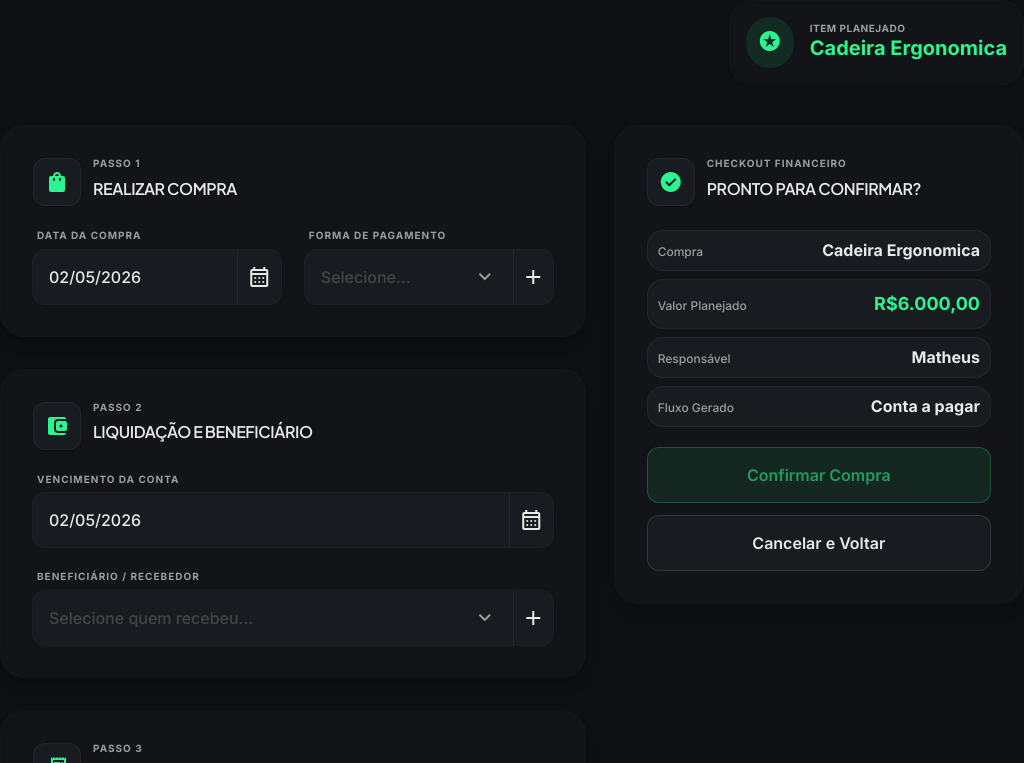
Scenario: RealizarCompraPlanejadaPage › realiza a compra com baixa automatica e gera payload de pagamento a vista
Expected: the heading "Realizar Compra" is shown, [93, 180, 237, 198]
Type "Pix" into the dropdown named "Forma de Pagamento" at point(409, 277), box [305, 250, 513, 304]
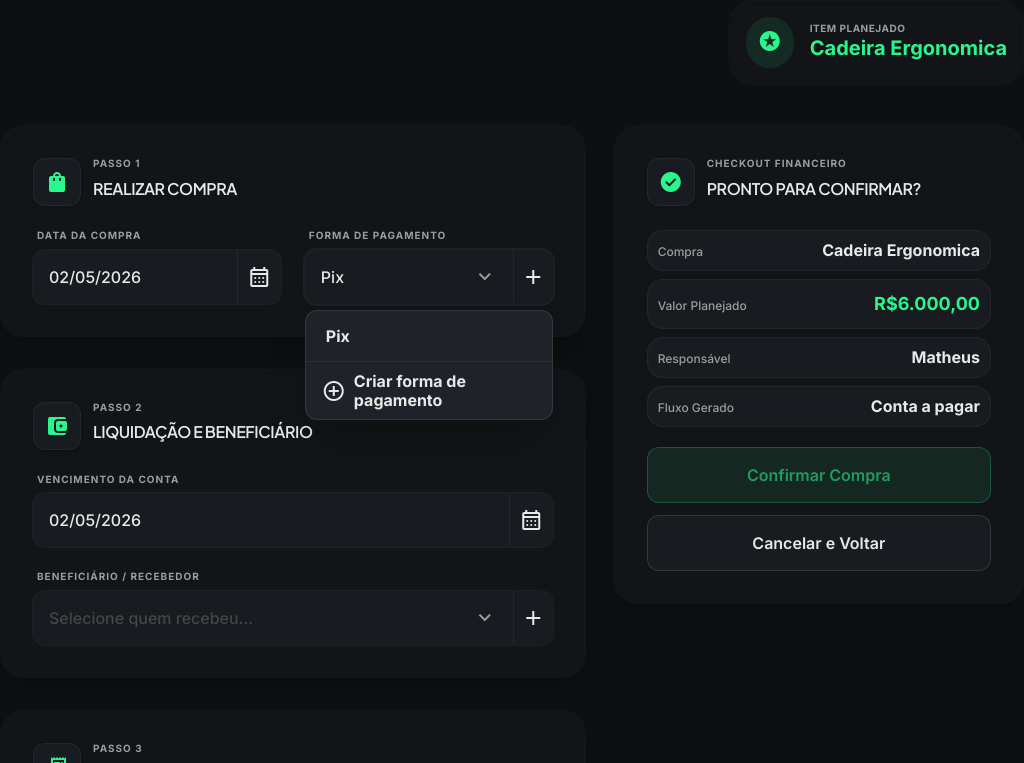
Click the button "Pix" at point(429, 336), box [314, 319, 544, 353]
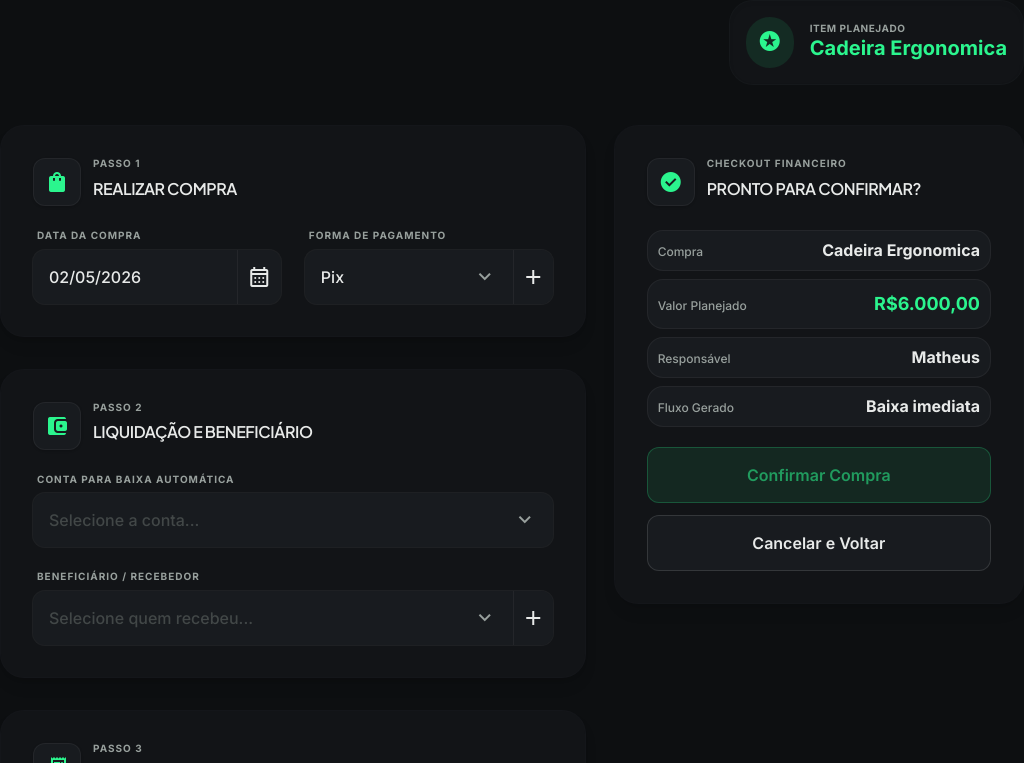
Type "Fornecedor A" into the dropdown named "Beneficiário / Recebedor" at point(273, 618), box [33, 591, 513, 645]
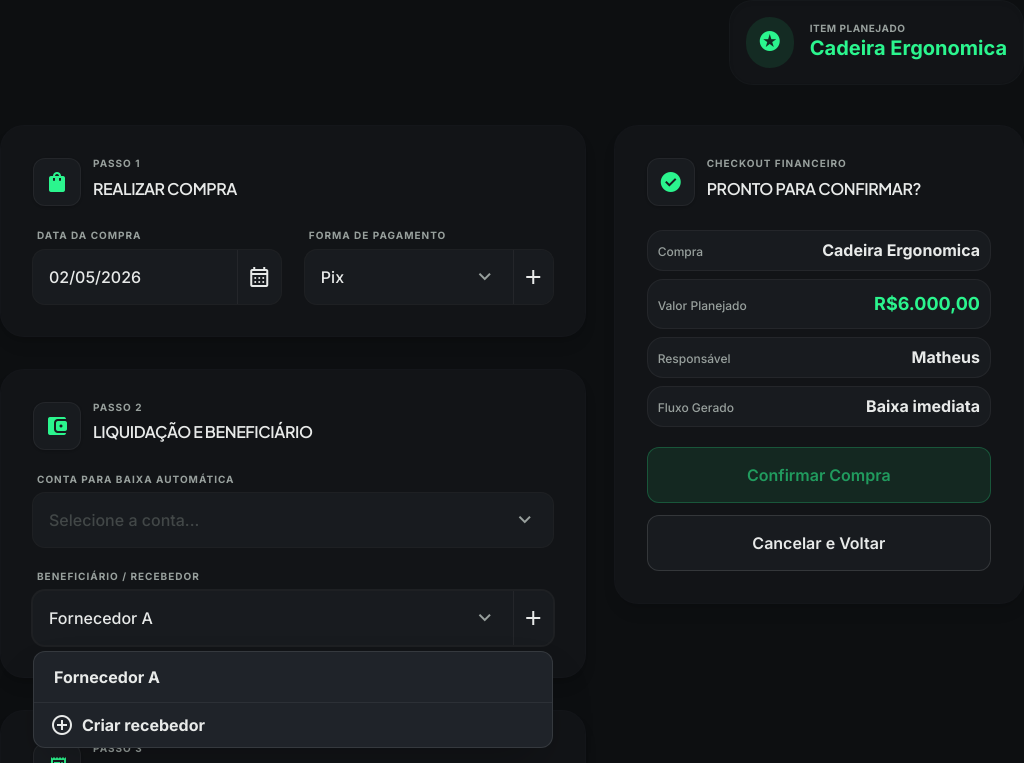
Click the button "Fornecedor A" at point(107, 677), box [42, 660, 544, 694]
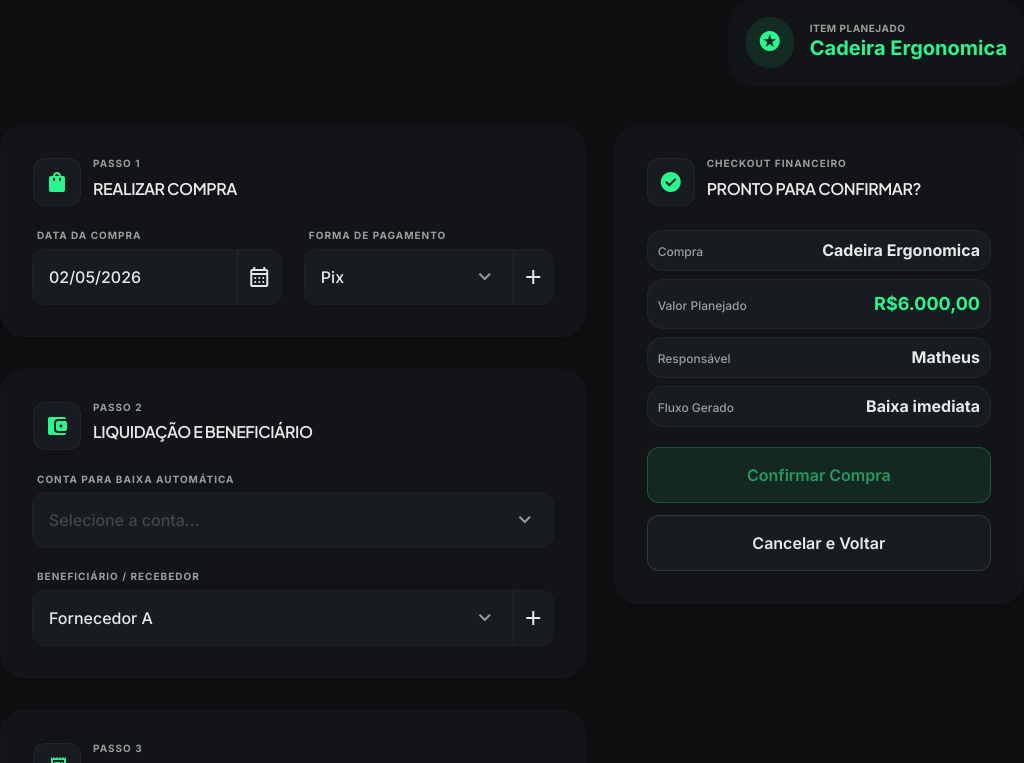
Type "Conta principal - Banco Exemplo" into the dropdown named "Conta para Baixa Automática" at point(293, 520), box [33, 493, 553, 547]
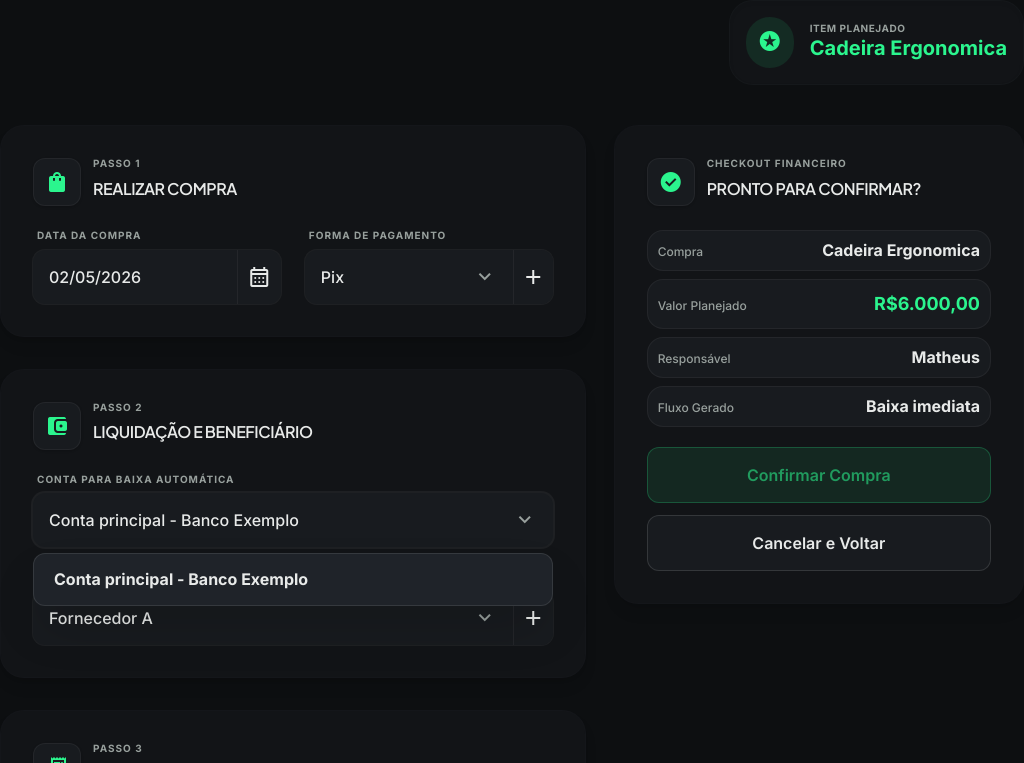
Click the button "Conta principal - Banco Exemplo" at point(293, 580), box [42, 562, 544, 597]
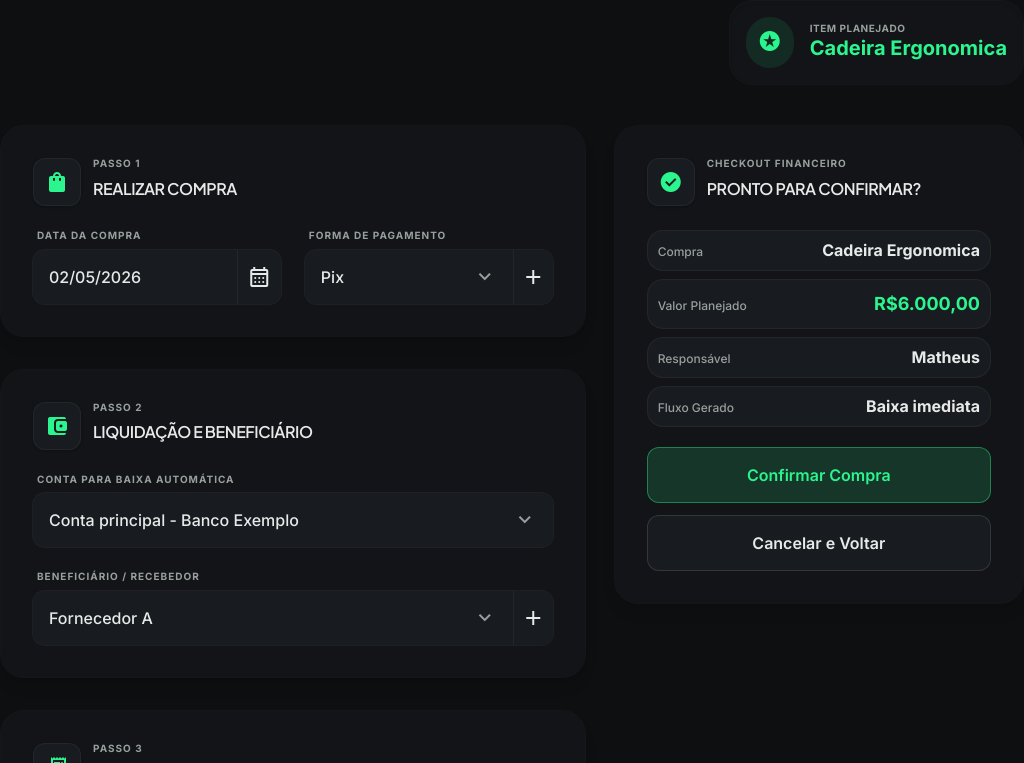
Now the button "Confirmar Compra" is enabled, box [647, 447, 991, 503]
